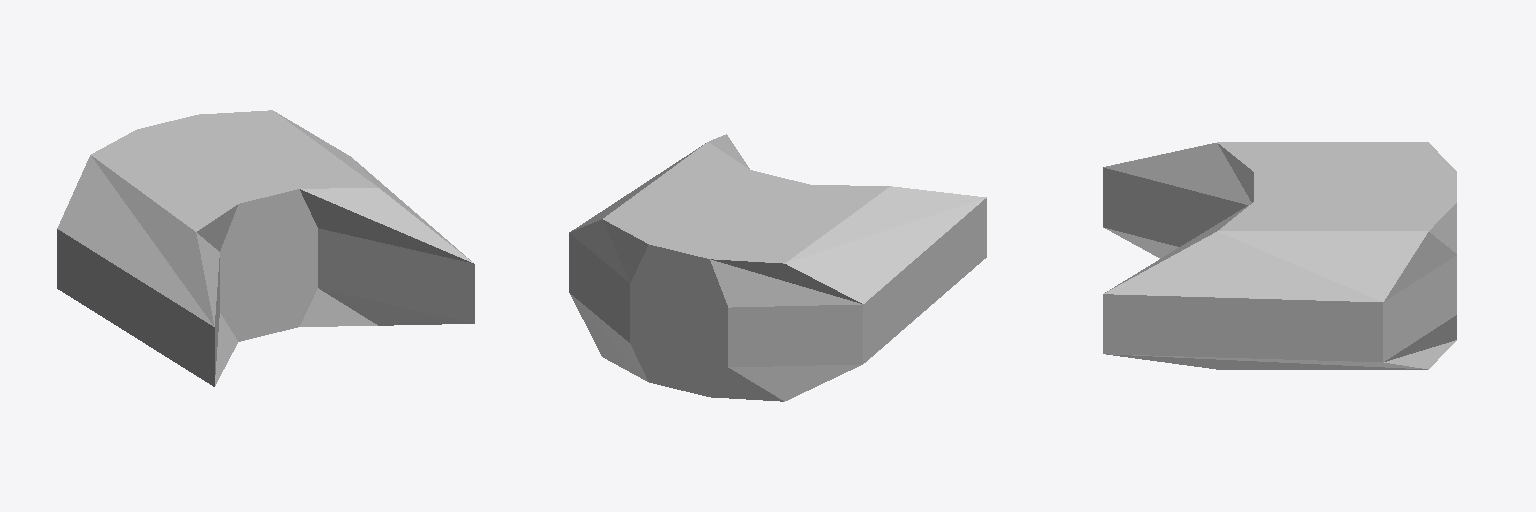
File: WhalePart4.obj
The picture shows the model from 3 angles: view 1: azimuth 30°, elevation 25°; view 2: azimuth 150°, elevation 25°; view 3: azimuth 270°, elevation 25°; orthographic projection.
Parts seen in each view (by area): view 1: Part4; view 2: Part4; view 3: Part4.
Part boxes in pixels (bbox=[...]): Part4: bbox=[57, 110, 474, 386]; Part4: bbox=[569, 134, 986, 401]; Part4: bbox=[1103, 142, 1456, 369].
Size of the model in its own units: 2.69 by 1.21 by 2.81.